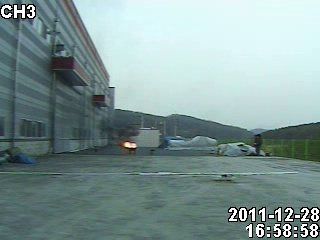fire: (115, 136, 143, 150)
